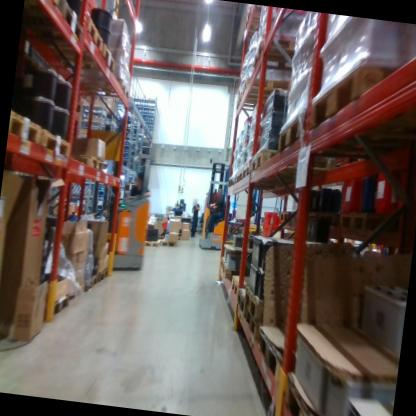forklift: (102, 138, 158, 278), (195, 156, 238, 255)
pallet: (295, 49, 416, 135), (272, 102, 382, 183), (248, 30, 315, 81), (44, 40, 128, 79), (247, 143, 308, 196), (280, 376, 353, 416), (54, 73, 138, 105), (250, 325, 289, 388), (241, 71, 307, 107), (6, 106, 48, 155), (56, 0, 90, 51), (233, 86, 285, 118), (241, 286, 276, 332), (83, 7, 110, 61), (38, 127, 74, 163), (42, 287, 71, 327), (68, 147, 107, 176), (22, 0, 62, 24), (239, 306, 263, 344), (228, 270, 256, 300), (222, 261, 250, 283), (63, 282, 86, 308), (232, 285, 247, 313), (241, 159, 254, 185), (81, 273, 97, 294), (233, 164, 247, 186), (94, 267, 110, 286), (160, 236, 179, 251), (143, 237, 163, 251), (226, 171, 238, 189), (278, 208, 292, 222), (219, 256, 229, 275)
small_load_carrier: (260, 208, 279, 229), (265, 224, 282, 241), (259, 223, 267, 239)
